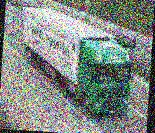truck: (16, 7, 137, 118)
